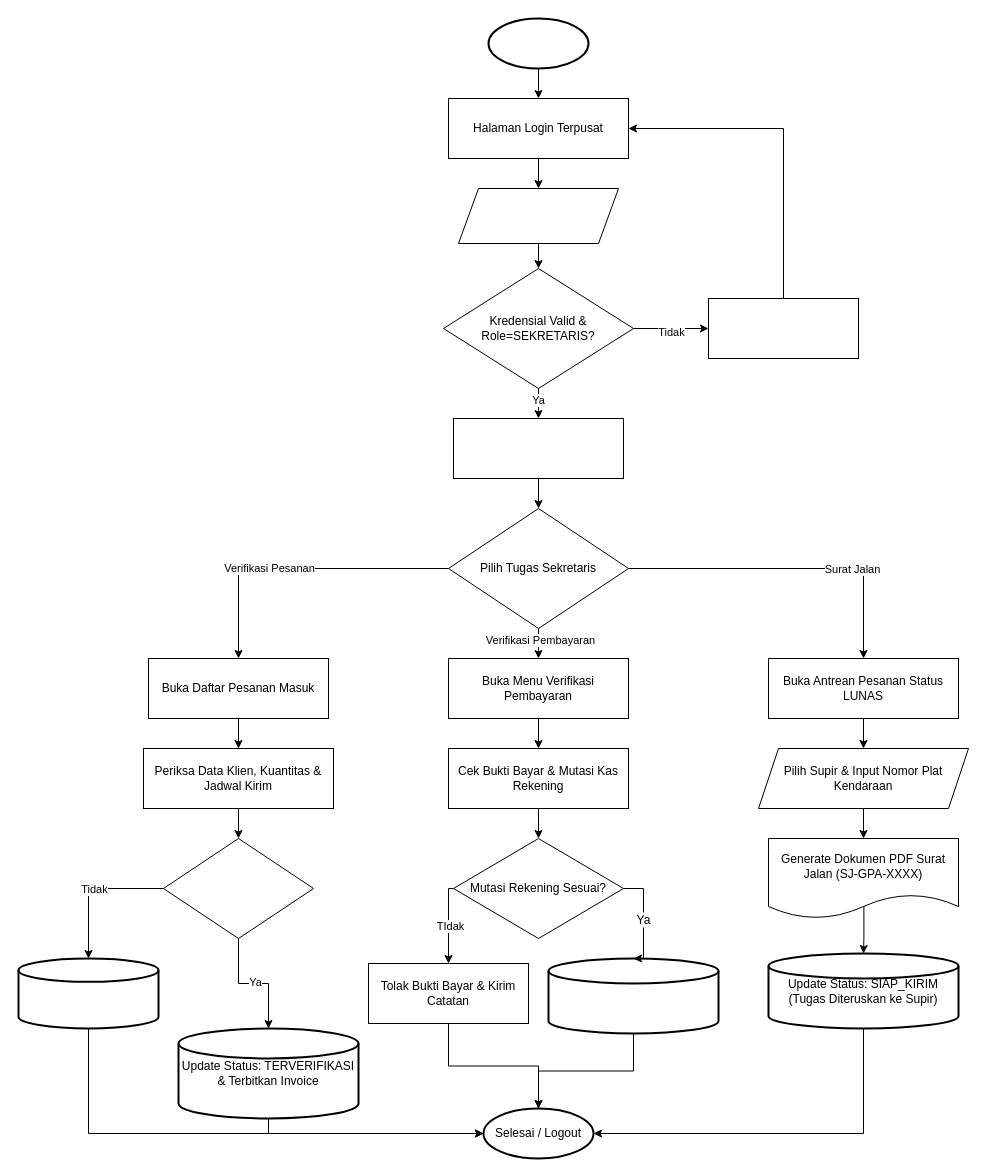
The diagram is 986 pixels wide and 1176 high, and some of its shapes have lost their labels. The shapes that lost their labels are listed below. From the top down, each one's box as (x1, y1, x2, y2) in pixels, then its label:
(487, 17, 589, 69): Mulai
(458, 188, 618, 244): Input Email & Password
(708, 298, 858, 358): Alert: Akses Ditolak
(452, 418, 624, 478): Masuk Dasbor Sekretaris
(162, 838, 314, 938): Pesanan Disetujui?
(17, 957, 159, 1029): Update Status: BATAL
(547, 957, 719, 1034): Update Status: LUNAS (Kunci Surat Jalan Terbuka)
